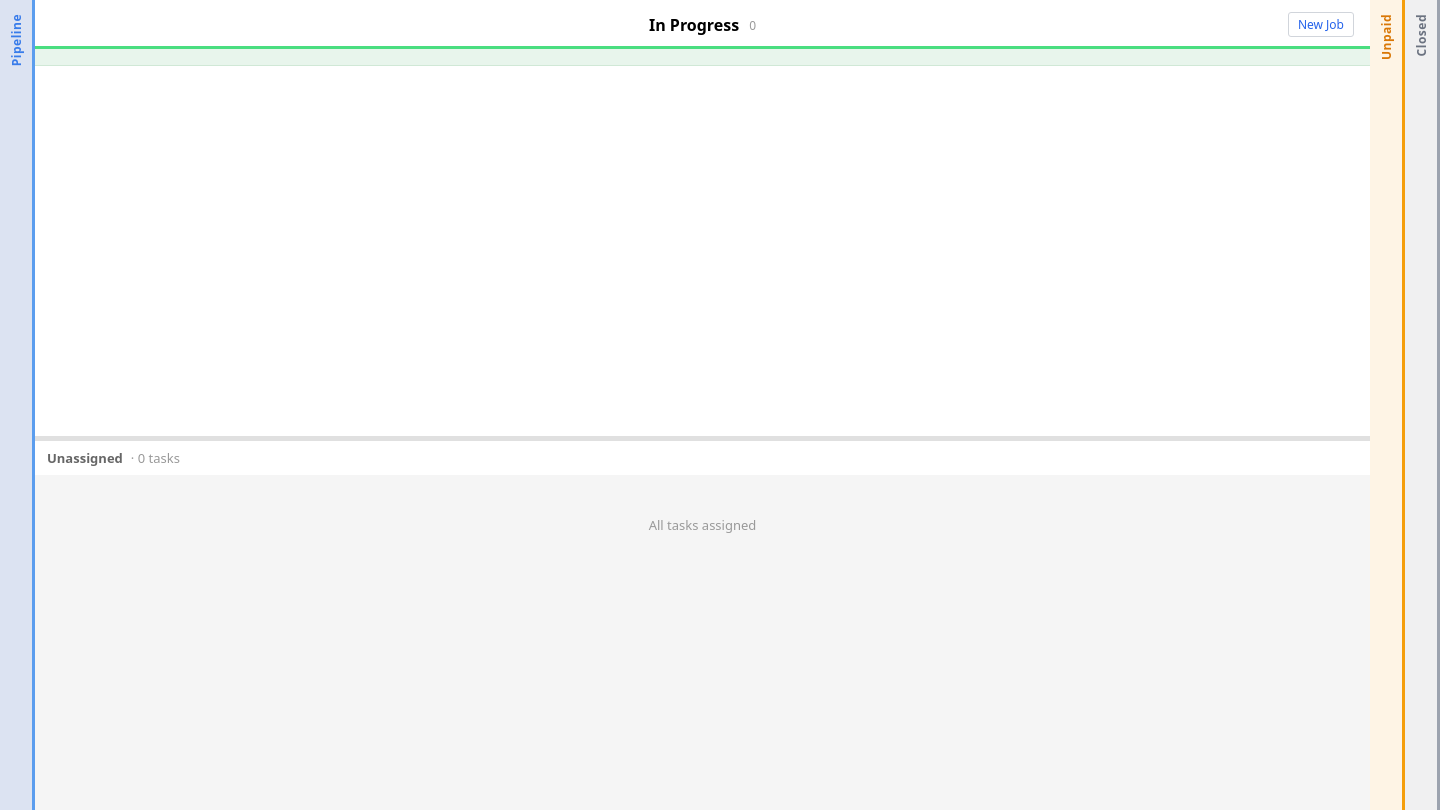
Test: JobBoardPage New Job entry point › keeps the button in the Unpaid pillar header
expect the element with class "approved-header" is shown: met, box x1=35 y1=0 x2=1370 y2=49
Click the button "Unpaid": (1388, 405) x1=1370 y1=0 x2=1405 y2=809
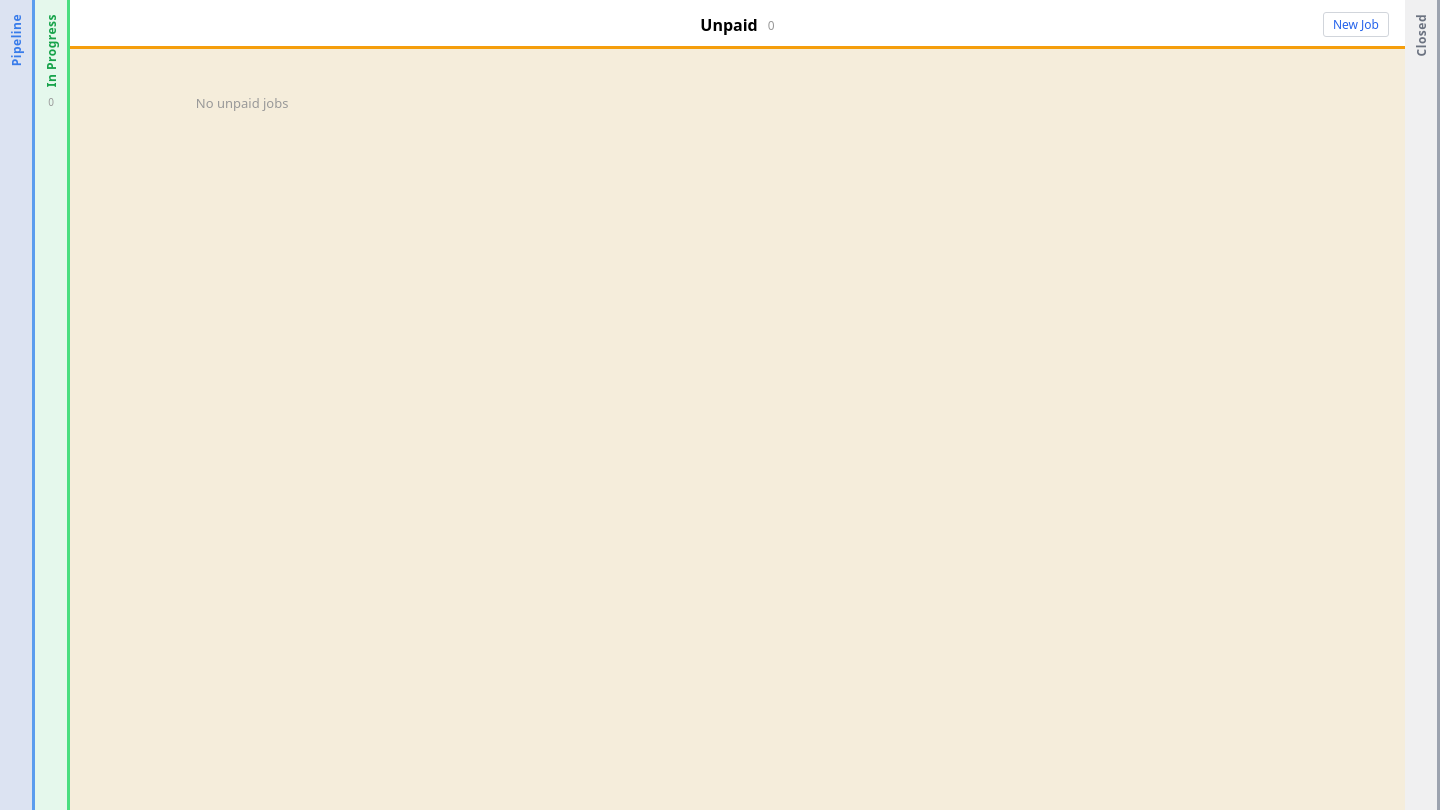
expect the element with class "column-header" is shown: met, box x1=70 y1=0 x2=1405 y2=49
expect the element with class "column-header" shows "Unpaid": met, box x1=700 y1=14 x2=758 y2=36
